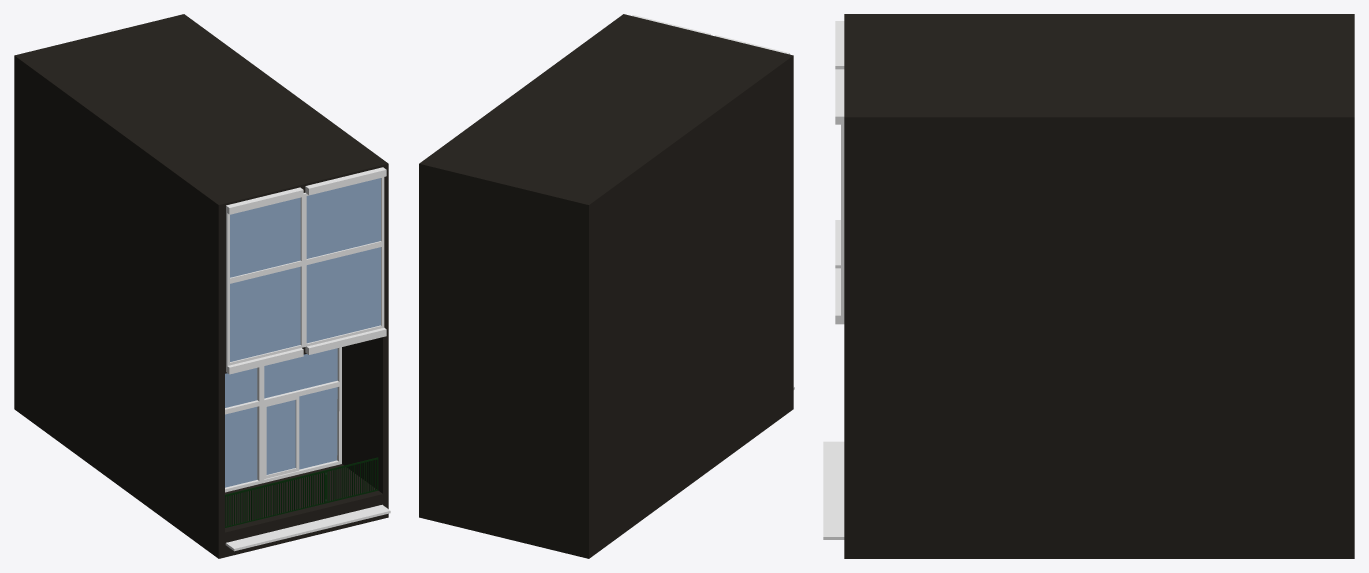
Rendered from modernGrachthuis3TEXTURED.fbx.
3 renders of one model, left to right at view 1: azimuth 30°, elevation 25°; view 2: azimuth 150°, elevation 25°; view 3: azimuth 270°, elevation 25°, orthographic. The views are drawn at different scales.
Parts seen in each view (by area): view 1: Plane, Plane.001, Plane.002, Plane.003, Plane.005, Plane.004, Plane.006; view 2: Plane; view 3: Plane, Plane.001, Plane.004.
Boxes of the visible parts, x1,y1,x2,y2 form: Plane: (14,14,388,558); Plane.001: (226,167,386,374); Plane.002: (225,347,341,492); Plane.003: (264,396,299,478); Plane.005: (225,470,325,527); Plane.004: (225,504,390,551); Plane.006: (326,457,378,503); Plane: (419,14,793,558); Plane: (844,14,1354,558); Plane.001: (835,21,844,324); Plane.004: (823,441,844,539).
Size of the model in its own units: 120 by 239 by 261.
